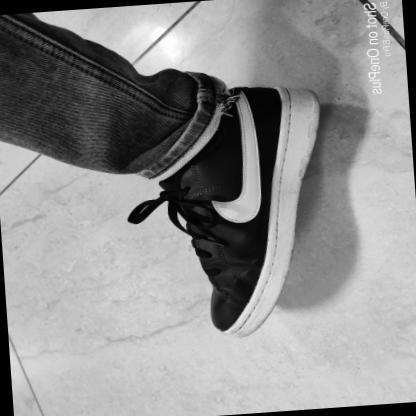ankle: (216, 144, 223, 152)
heel: (304, 91, 312, 98)
left_foot: (157, 83, 338, 342)
pinky: (213, 303, 221, 310)
toe: (230, 324, 240, 333)
